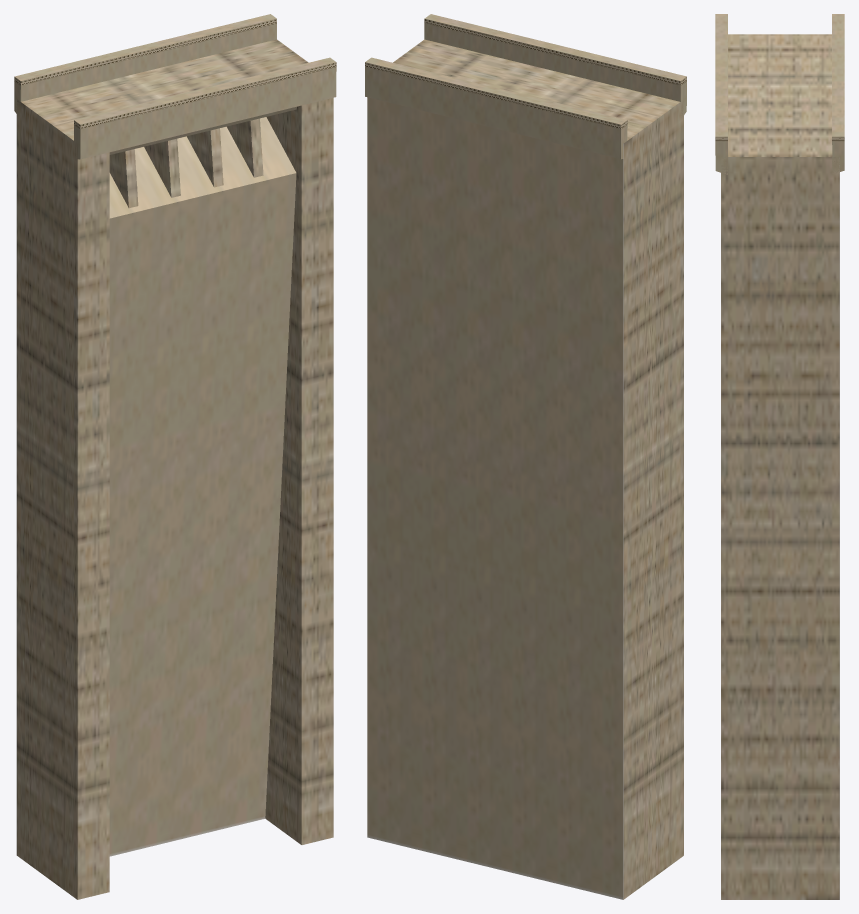
Rendered from thm_nboo_imprv_spill_gate_s01_l1.fbx.
3 renders of one model, left to right at view 1: azimuth 30°, elevation 25°; view 2: azimuth 150°, elevation 25°; view 3: azimuth 270°, elevation 25°, orthographic.
Parts seen in each view (by area): view 1: mesh_node; view 2: mesh_node; view 3: mesh_node.
Part boxes in pixels (bbox=[...]): mesh_node: bbox=[14, 14, 336, 899]; mesh_node: bbox=[365, 14, 686, 899]; mesh_node: bbox=[715, 14, 844, 899].
Size of the model in its own units: 16 by 46.39 by 7.12.
1 material, 1 textured.
